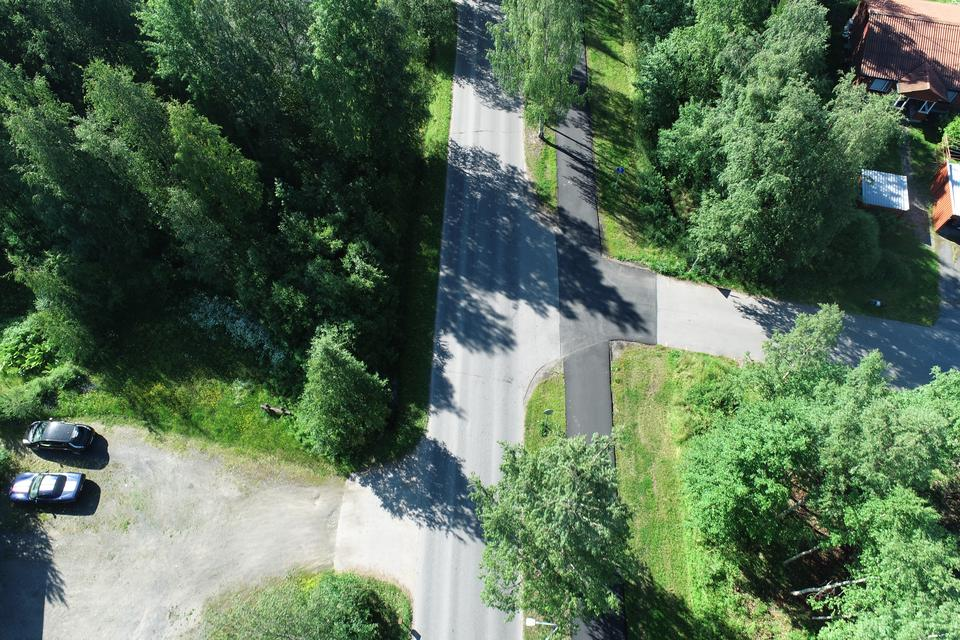intersection: (400, 203, 657, 386)
